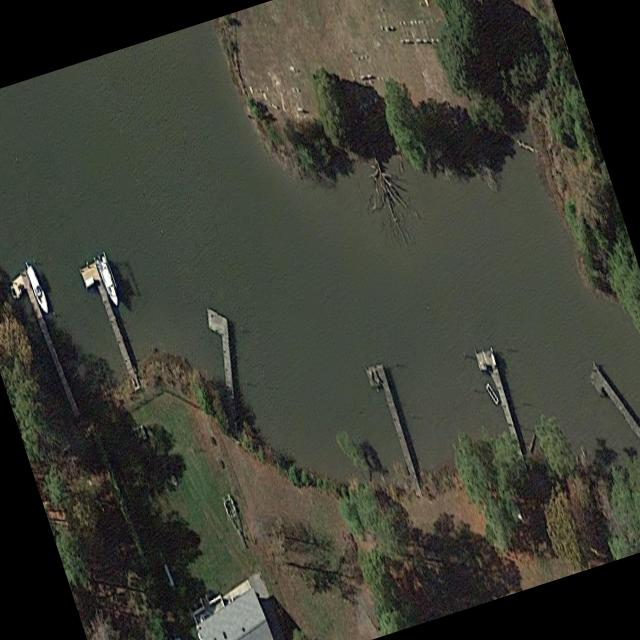ship: (95, 254, 121, 307), (25, 263, 51, 315)
